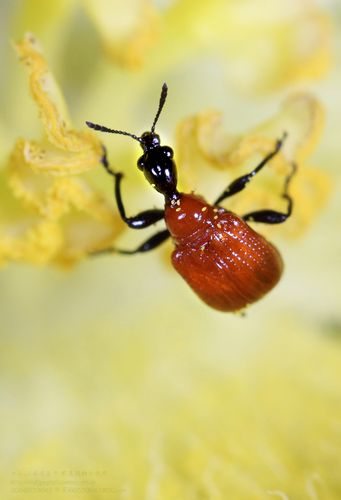Curculionidae: (84, 81, 298, 316)
